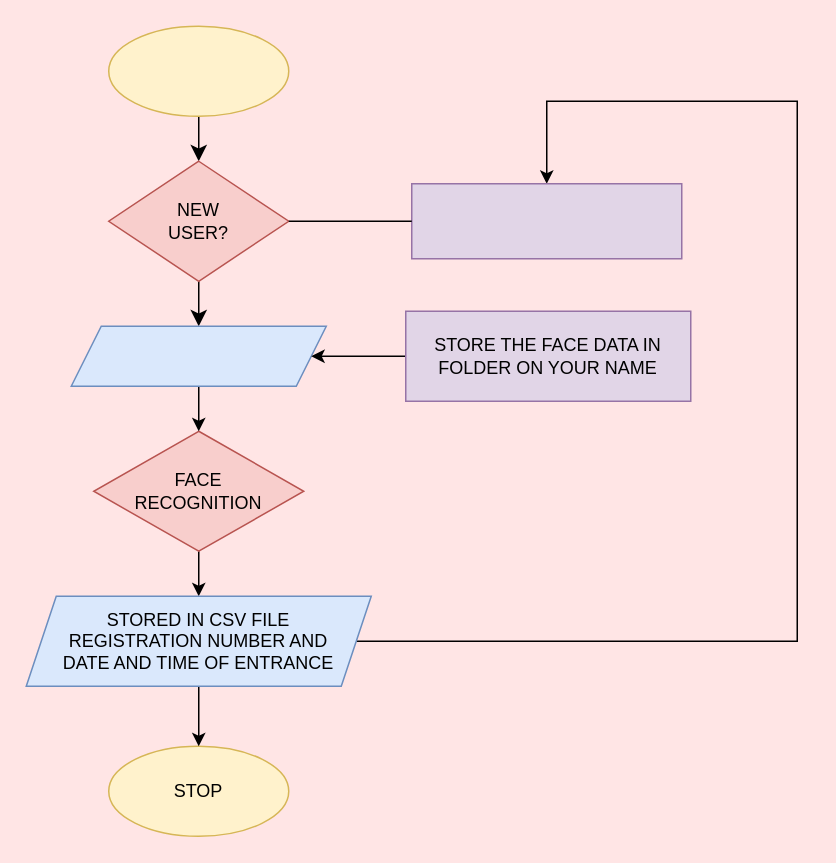
Image size: 836x863. Some labels were removed from this diagram. Here are the shapes that lost their labels. From the top down, the centre of each, then its label:
(198,70): START
(546,220): GIVE YOUR PHOTOGRAPH
(198,355): RECOGNISE THE FACE
